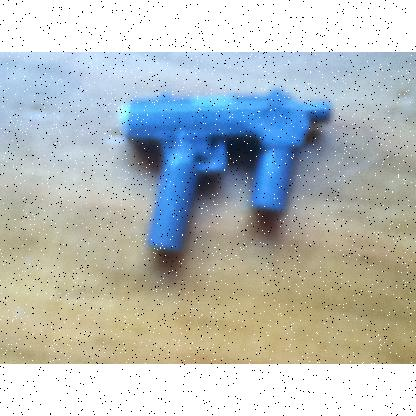gun: (117, 88, 331, 248)
